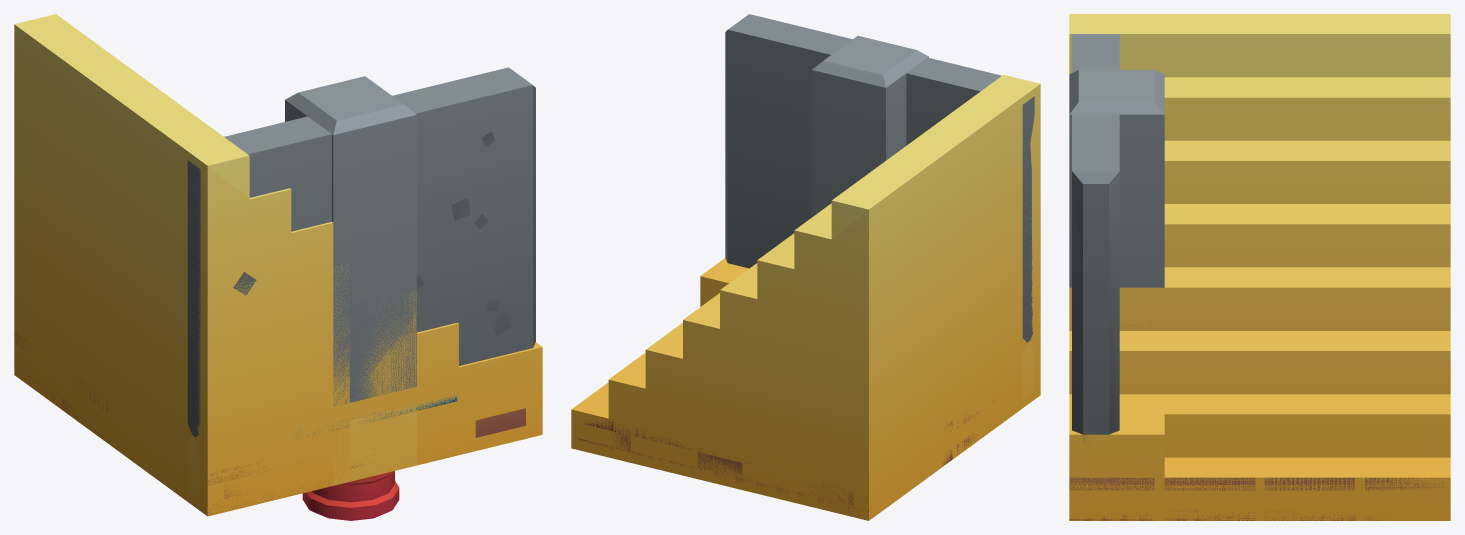
The model's file is props.glb.
The picture shows the model from 3 angles, left to right: view 1: azimuth 30°, elevation 25°; view 2: azimuth 150°, elevation 25°; view 3: azimuth 270°, elevation 25°; orthographic projection. The views are drawn at different scales.
Visible parts, largest first — view 1: Primitive_Stairs, Wall_Half, Pillar_B, Wall_Window_Open, Pillar_A, Barrel_A, Primitive_Beam, Pallet_Large; view 2: Primitive_Stairs, Wall_Half, Wall_Window_Open, Pillar_B, Pallet_Large, Primitive_Beam; view 3: Primitive_Stairs, Wall_Half, Pillar_B, Wall_Window_Open, Primitive_Beam, Pallet_Large, Pillar_A.
Boxes of the visible parts, x1=… form: Primitive_Stairs: x1=14, y1=14, x2=542, y2=516; Wall_Half: x1=392, y1=67, x2=535, y2=365; Pillar_B: x1=285, y1=76, x2=416, y2=485; Wall_Window_Open: x1=187, y1=68, x2=535, y2=500; Pillar_A: x1=335, y1=94, x2=399, y2=481; Barrel_A: x1=302, y1=471, x2=399, y2=520; Primitive_Beam: x1=164, y1=342, x2=542, y2=515; Pallet_Large: x1=14, y1=333, x2=525, y2=514; Primitive_Stairs: x1=571, y1=75, x2=1040, y2=520; Wall_Half: x1=725, y1=14, x2=852, y2=268; Wall_Window_Open: x1=725, y1=15, x2=1034, y2=400; Pillar_B: x1=811, y1=35, x2=928, y2=217; Pallet_Large: x1=577, y1=399, x2=996, y2=517; Primitive_Beam: x1=700, y1=258, x2=1040, y2=406; Primitive_Stairs: x1=1069, y1=14, x2=1450, y2=520; Wall_Half: x1=1072, y1=114, x2=1119, y2=477; Pillar_B: x1=1069, y1=70, x2=1164, y2=329; Wall_Window_Open: x1=1072, y1=34, x2=1119, y2=441; Primitive_Beam: x1=1069, y1=394, x2=1164, y2=520; Pallet_Large: x1=1069, y1=477, x2=1446, y2=520; Pillar_A: x1=1069, y1=78, x2=1116, y2=105.
Size of the model in its own units: 4 by 4.6 by 4.
Materials: 14 (14 with a texture image).
